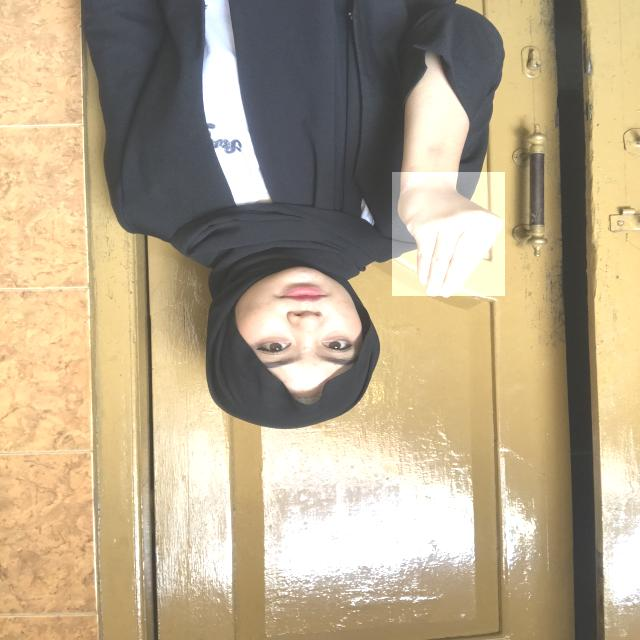kapan: (392, 172, 505, 296)
